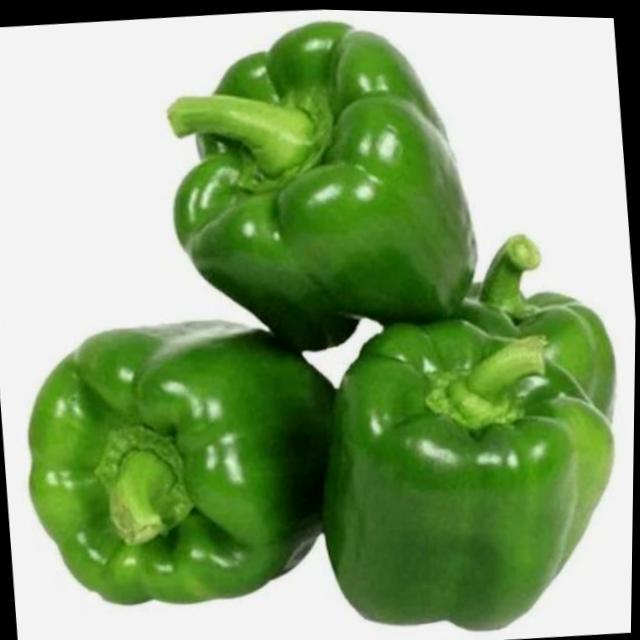Capsicum: (155, 5, 486, 365), (14, 294, 362, 617), (318, 298, 637, 640), (459, 274, 626, 435)
